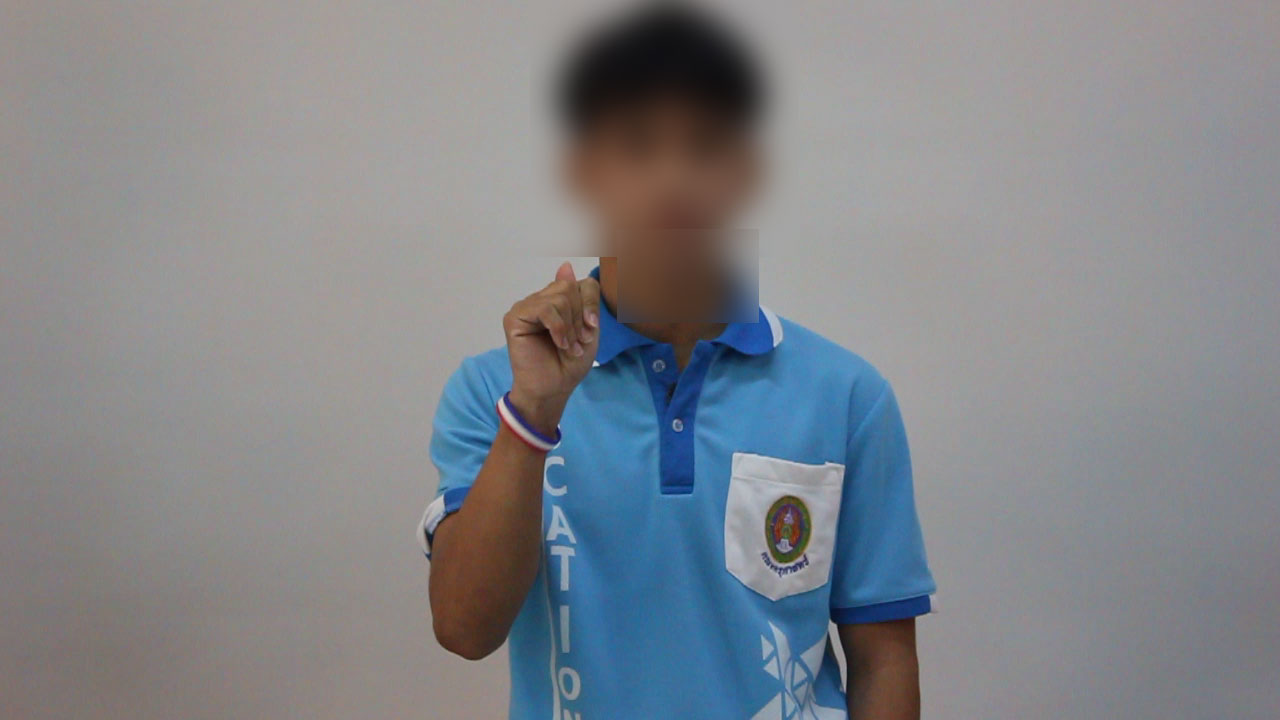tor: (494, 251, 617, 430)
